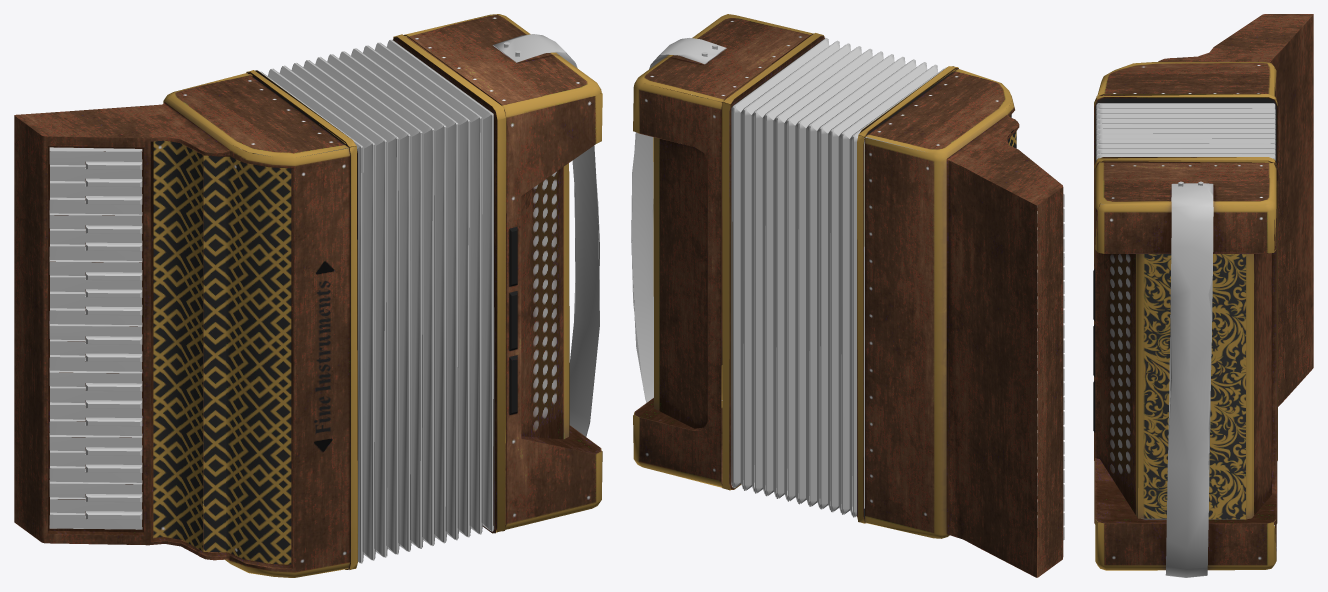
Rendered from acordeon.fbx.
3 views of the same model, side by side, from view 1: azimuth 30°, elevation 25°; view 2: azimuth 150°, elevation 25°; view 3: azimuth 270°, elevation 25° (orthographic). The views are drawn at different scales.
Parts seen in each view (by area): view 1: ACORDEON; view 2: ACORDEON; view 3: ACORDEON.
Boxes of the visible parts, x1,y1,x2,y2 form: ACORDEON: (14,14,602,577); ACORDEON: (631,14,1064,577); ACORDEON: (1093,14,1313,577).
Size of the model in its own units: 54.1 by 44.85 by 23.5.
